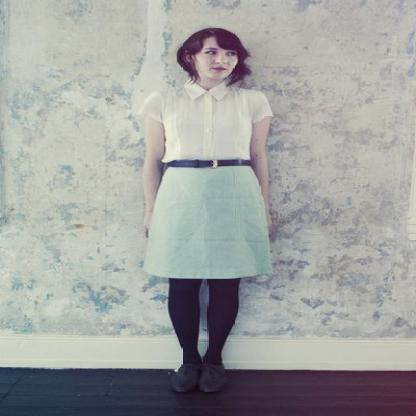shirt: (151, 81, 272, 162)
skirt: (144, 158, 276, 278)
